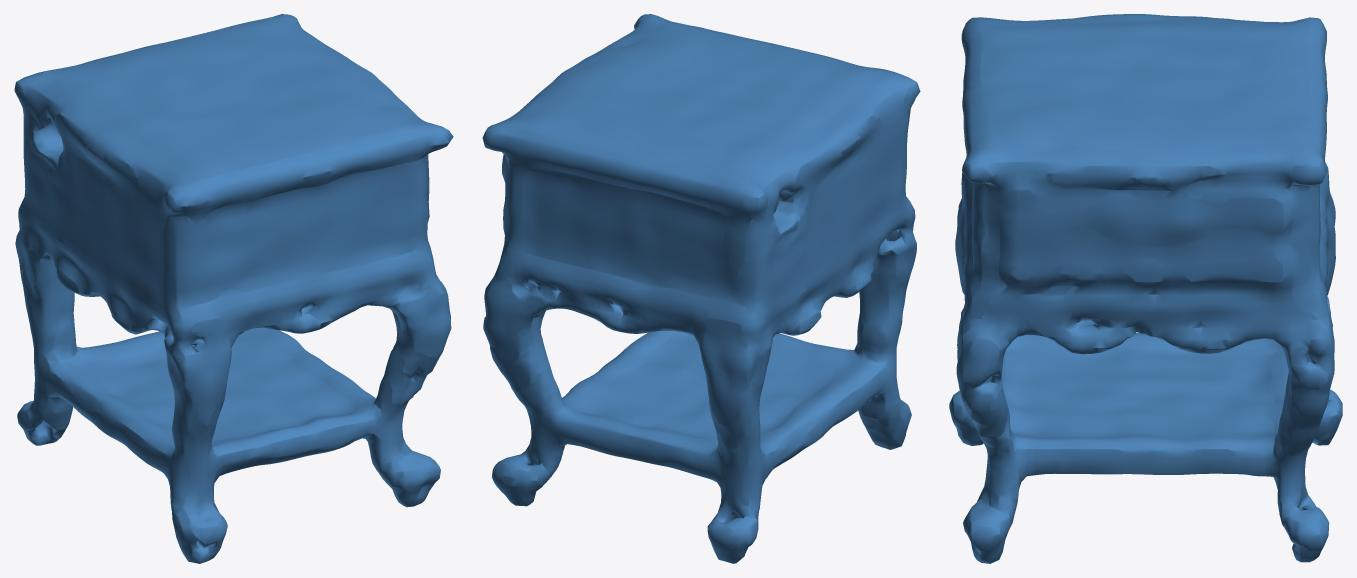
The model's file is nightstand_8_2.obj.
3 renders of one model, left to right at view 1: azimuth 30°, elevation 25°; view 2: azimuth 150°, elevation 25°; view 3: azimuth 270°, elevation 25°, orthographic. The views are drawn at different scales.
Size of the model in its own units: 0.6277 by 0.8026 by 0.6734.
